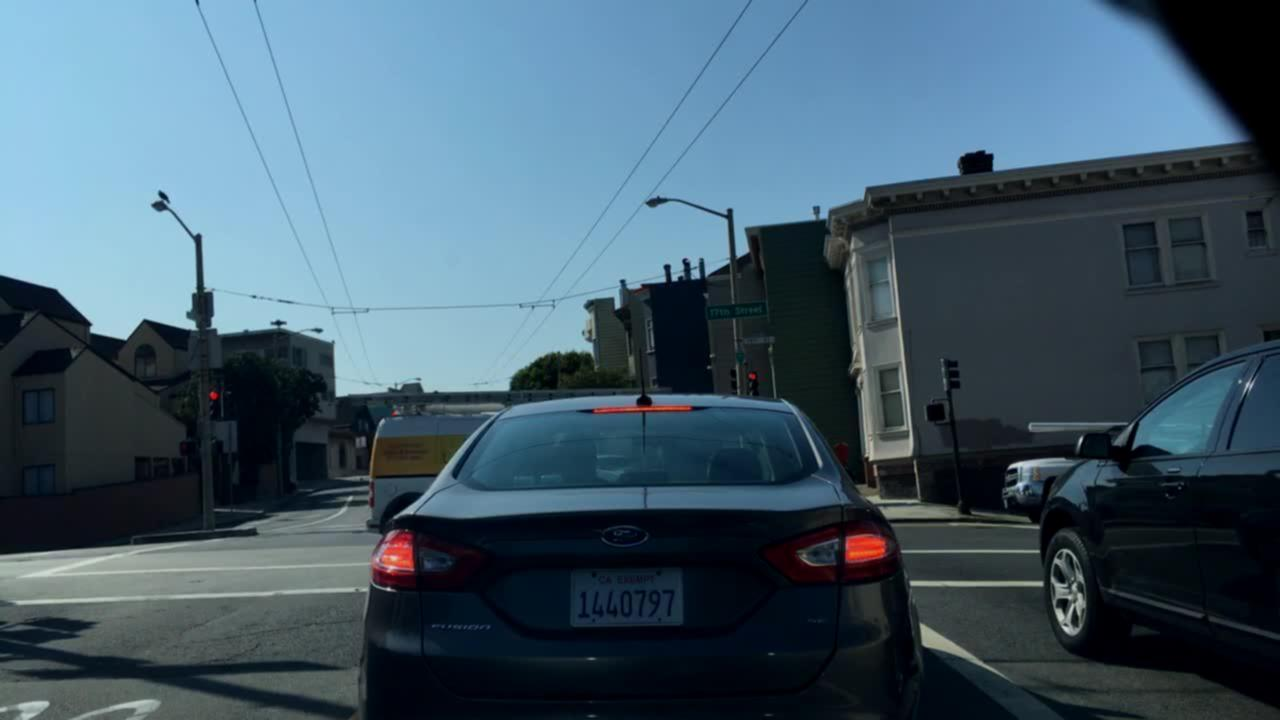ford: (599, 525, 651, 550)
